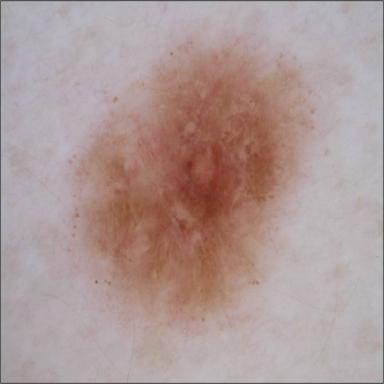nevus: (78, 43, 311, 319)
